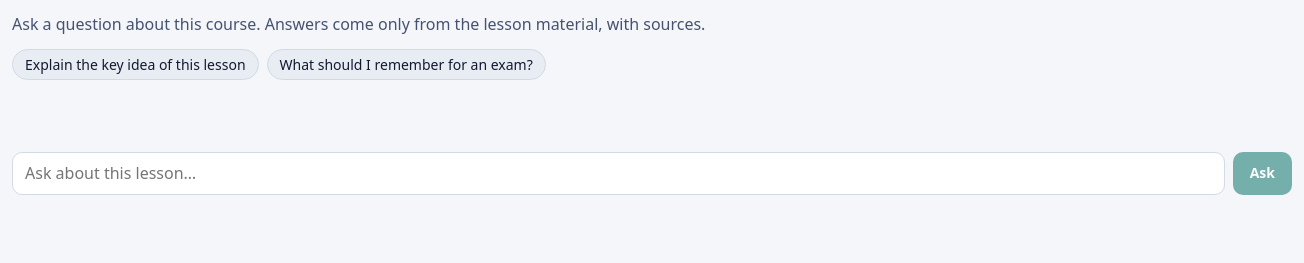
TutorPanel › flags answers that are not in the course material
In the field named "Your question": [618, 173] box x1=12 y1=152 x2=1225 y2=195, type "What is a kernel?"
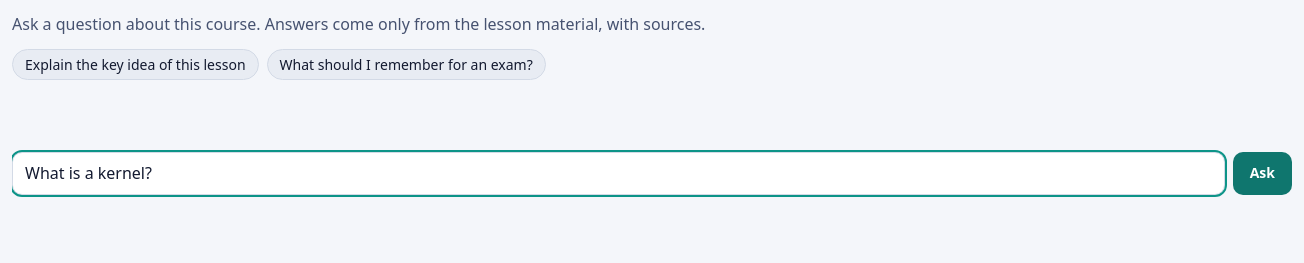
Click the button "Ask": [1262, 173] box x1=1233 y1=152 x2=1292 y2=195
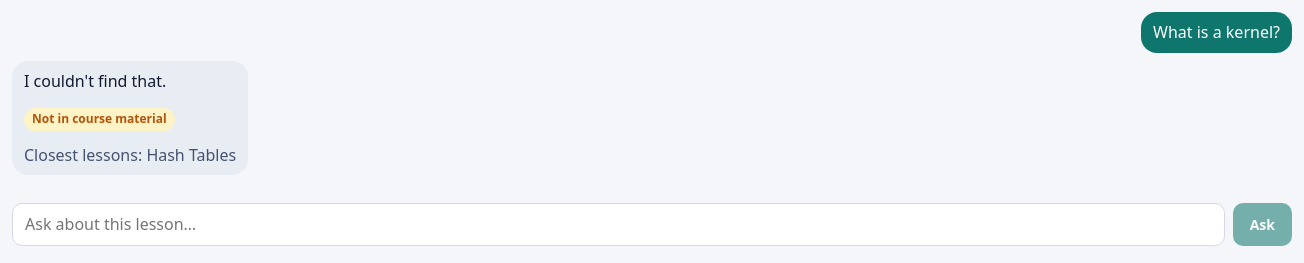
Result: the text "Not in course material" is shown at x1=24 y1=108 x2=175 y2=131
Result: the text "Closest lessons: Hash Tables" is shown at x1=24 y1=143 x2=236 y2=167
